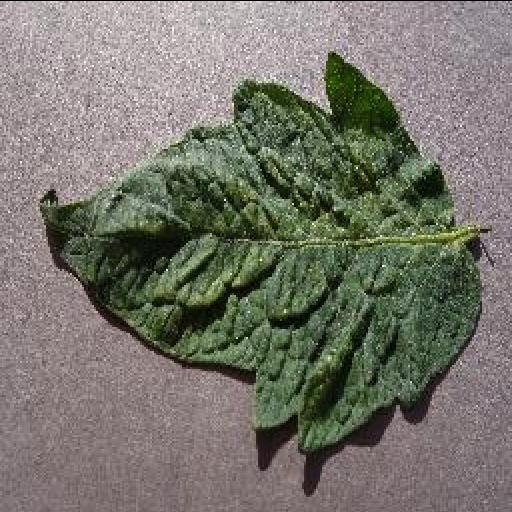disease_tomato: (43, 50, 485, 460)
